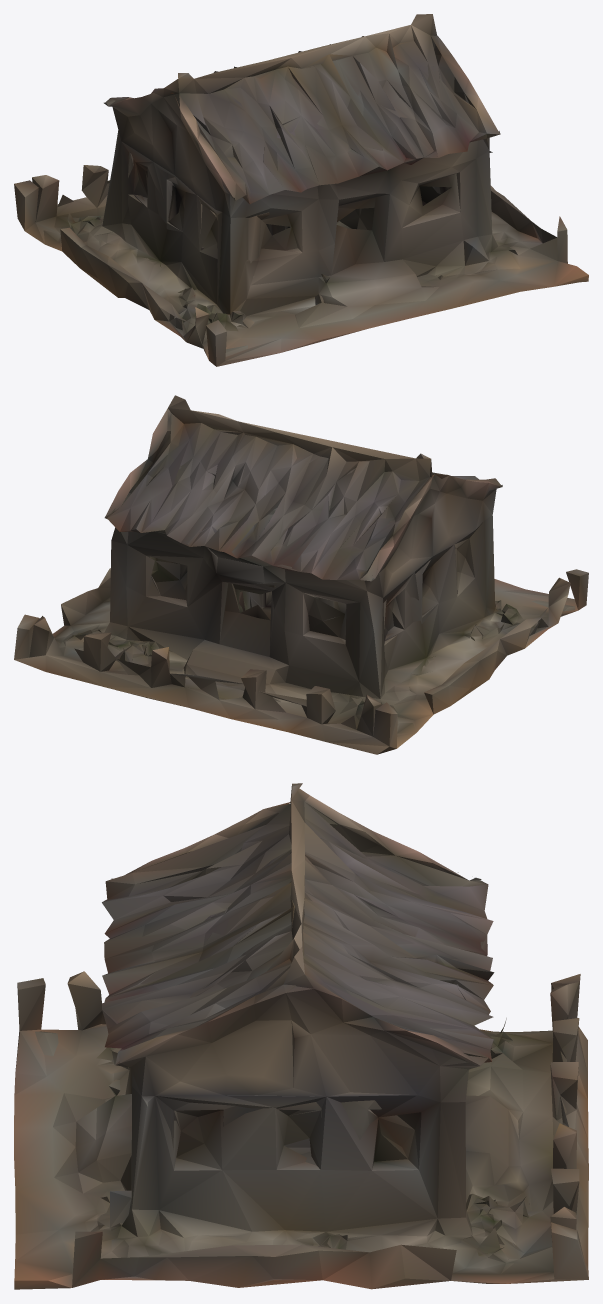
File: bq_bookstore.vc.glb
3 renders of one model, top to bottom at view 1: azimuth 30°, elevation 25°; view 2: azimuth 150°, elevation 25°; view 3: azimuth 270°, elevation 25°, orthographic. The views are drawn at different scales.
Visible parts, largest first — view 1: bq_bookstore; view 2: bq_bookstore; view 3: bq_bookstore.
Part boxes in pixels (x1,y1,x2,y2): bq_bookstore: (14, 14, 588, 366); bq_bookstore: (14, 395, 588, 754); bq_bookstore: (14, 783, 588, 1289).
Bounding box in the file's own units: 1.9 × 1.01 × 1.79.
